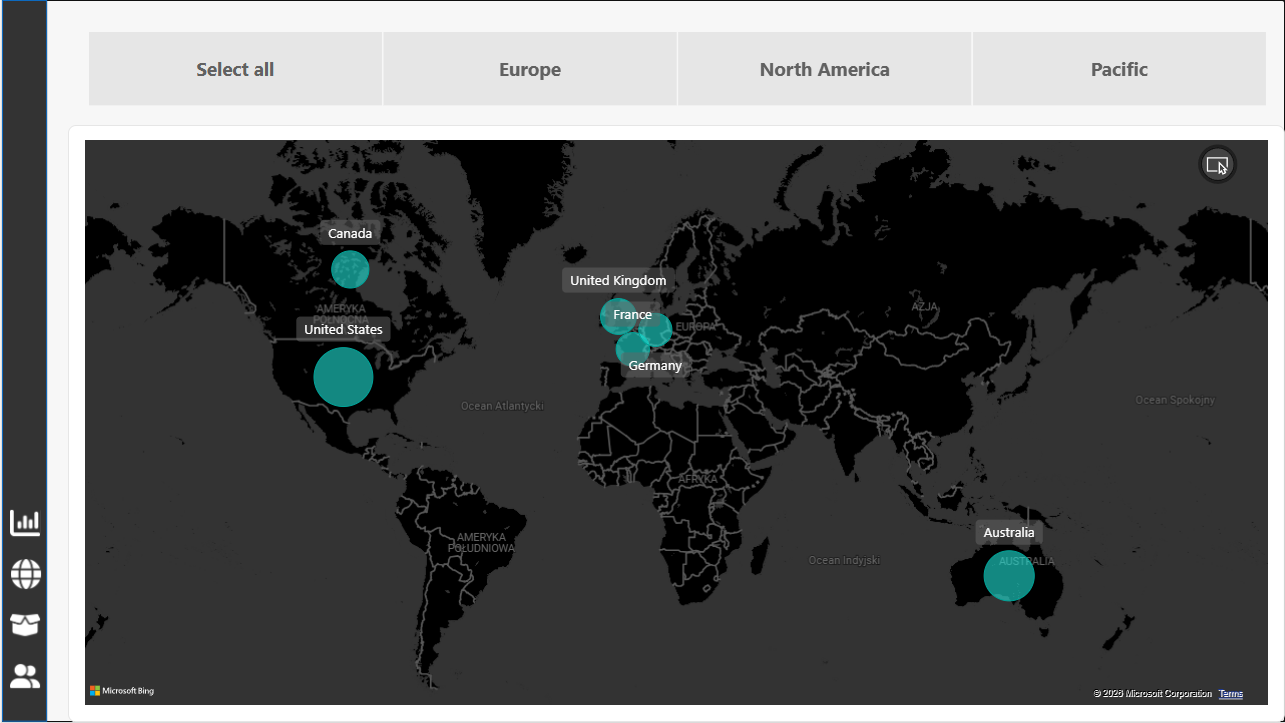

Layout of this report page (visuals, bound fields, positions):
{"tool":"powerbi","page":{"name":"Map","canvas":[1280,720],"ordinal":1},"visuals":[{"type":"shape","box":[0,0,45,720],"z":0},{"type":"map","fields":{"Category":["Territory Lookup.Country"],"Size":["Measure Table.Total Orders"]},"box":[66.2,124.3,1213.8,595.9],"z":1000},{"type":"actionButton","box":[0.8,602.7,44.7,41],"z":1000,"group":"g1"},{"type":"slicer","fields":{"Values":["Territory Lookup.Continent"]},"box":[66.2,30.2,1213.8,76.7],"z":2000},{"type":"actionButton","box":[1.4,551.8,43.5,41],"z":2000,"group":"g1"},{"type":"group","id":"g1","title":"Nav buttons","box":[0.8,500.8,44.7,193.9],"z":3000},{"type":"actionButton","box":[0.8,500.8,44.7,41],"z":3000,"group":"g1"},{"type":"actionButton","box":[0.8,653.7,44.7,41],"z":4000,"group":"g1"}]}

Visuals, with their boxes on the page's 1280x720 design canvas (x1, y1, x2, y2). These are canvas units, not pixel positions in the 1285x723 screenshot, which may show the page scaled, cropped or inside an application window:
shape: (x1=0, y1=0, x2=45, y2=720)
map - Territory Lookup.Country x Measure Table.Total Orders: (x1=66, y1=124, x2=1280, y2=720)
actionButton: (x1=1, y1=603, x2=46, y2=644)
slicer - Territory Lookup.Continent: (x1=66, y1=30, x2=1280, y2=107)
actionButton: (x1=1, y1=552, x2=45, y2=593)
"Nav buttons" group: (x1=1, y1=501, x2=46, y2=695)
actionButton: (x1=1, y1=501, x2=46, y2=542)
actionButton: (x1=1, y1=654, x2=46, y2=695)
